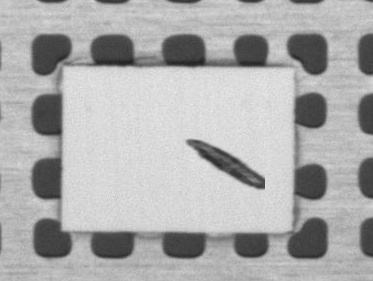DIE_INK: (183, 134, 269, 194)
